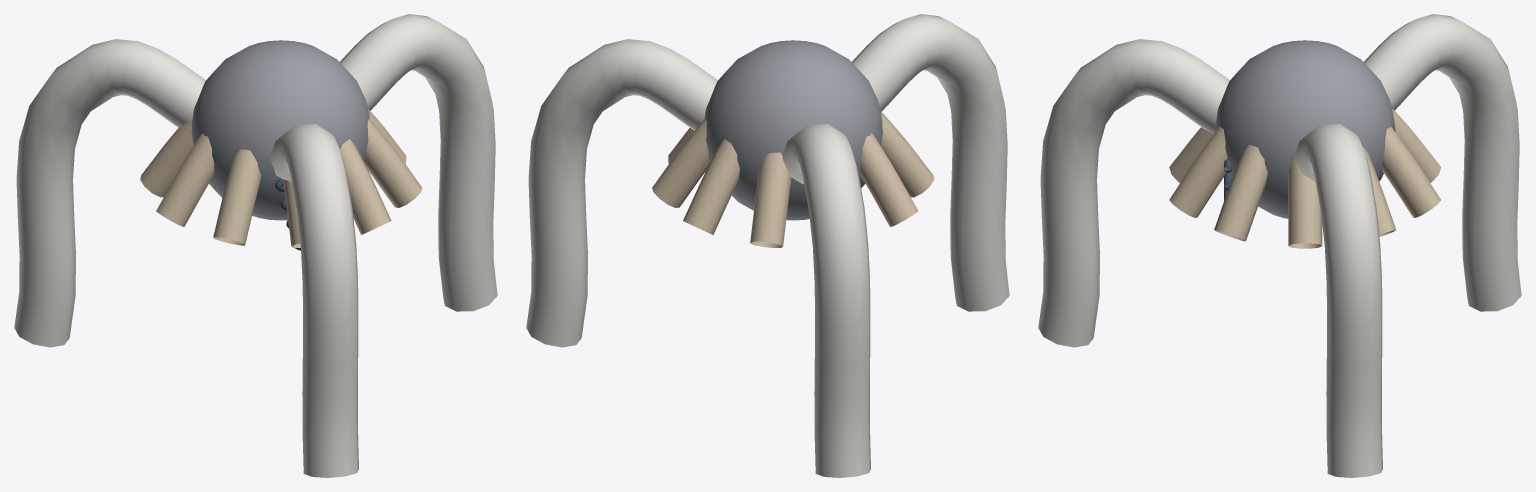
The model's file is bio_tripod_bell_05_near.glb.
3 views of the same model, side by side, from view 1: azimuth 30°, elevation 25°; view 2: azimuth 150°, elevation 25°; view 3: azimuth 270°, elevation 25° (orthographic).
Visible parts, largest first — view 1: Arched tripod.001, Arched tripod, Arched tripod.002, Hanging bell core, Flared rib.006, Flared rib.005, Flared rib.009, Flared rib.008, Flared rib.004, Flared rib.007; view 2: Arched tripod, Arched tripod.002, Arched tripod.001, Hanging bell core, Flared rib.003, Flared rib.002, Flared rib.005, Flared rib.001, Flared rib.006; view 3: Arched tripod.002, Arched tripod.001, Arched tripod, Hanging bell core, Flared rib.009, Flared rib.002, Flared rib.008, Flared rib, Flared rib.003, Flared rib.007, Flared rib.001.
Boxes of the visible parts, <box> form: Arched tripod.001: <box>14,39,205,347</box>; Arched tripod: <box>340,14,497,311</box>; Arched tripod.002: <box>270,124,358,477</box>; Hanging bell core: <box>191,40,369,220</box>; Flared rib.006: <box>213,149,261,245</box>; Flared rib.005: <box>156,133,214,226</box>; Flared rib.009: <box>364,118,422,207</box>; Flared rib.008: <box>340,139,391,234</box>; Flared rib.004: <box>140,121,193,197</box>; Flared rib.007: <box>283,179,300,247</box>; Arched tripod: <box>526,39,717,347</box>; Arched tripod.002: <box>852,14,1009,311</box>; Arched tripod.001: <box>782,124,870,477</box>; Hanging bell core: <box>704,40,882,220</box>; Flared rib.003: <box>750,152,791,247</box>; Flared rib.002: <box>683,139,739,234</box>; Flared rib.005: <box>860,133,918,227</box>; Flared rib.001: <box>652,118,709,207</box>; Flared rib.006: <box>881,111,934,197</box>; Arched tripod.002: <box>1038,39,1229,347</box>; Arched tripod.001: <box>1364,14,1521,311</box>; Arched tripod: <box>1294,124,1382,477</box>; Hanging bell core: <box>1215,40,1395,218</box>; Flared rib.009: <box>1214,144,1267,241</box>; Flared rib.002: <box>1382,126,1440,217</box>; Flared rib.008: <box>1169,126,1227,217</box>; Flared rib: <box>1288,159,1322,248</box>; Flared rib.003: <box>1392,108,1441,182</box>; Flared rib.007: <box>1169,127,1213,182</box>; Flared rib.001: <box>1363,147,1396,236</box>.
Size of the model in its own units: 2.49 by 1.9 by 2.57.
